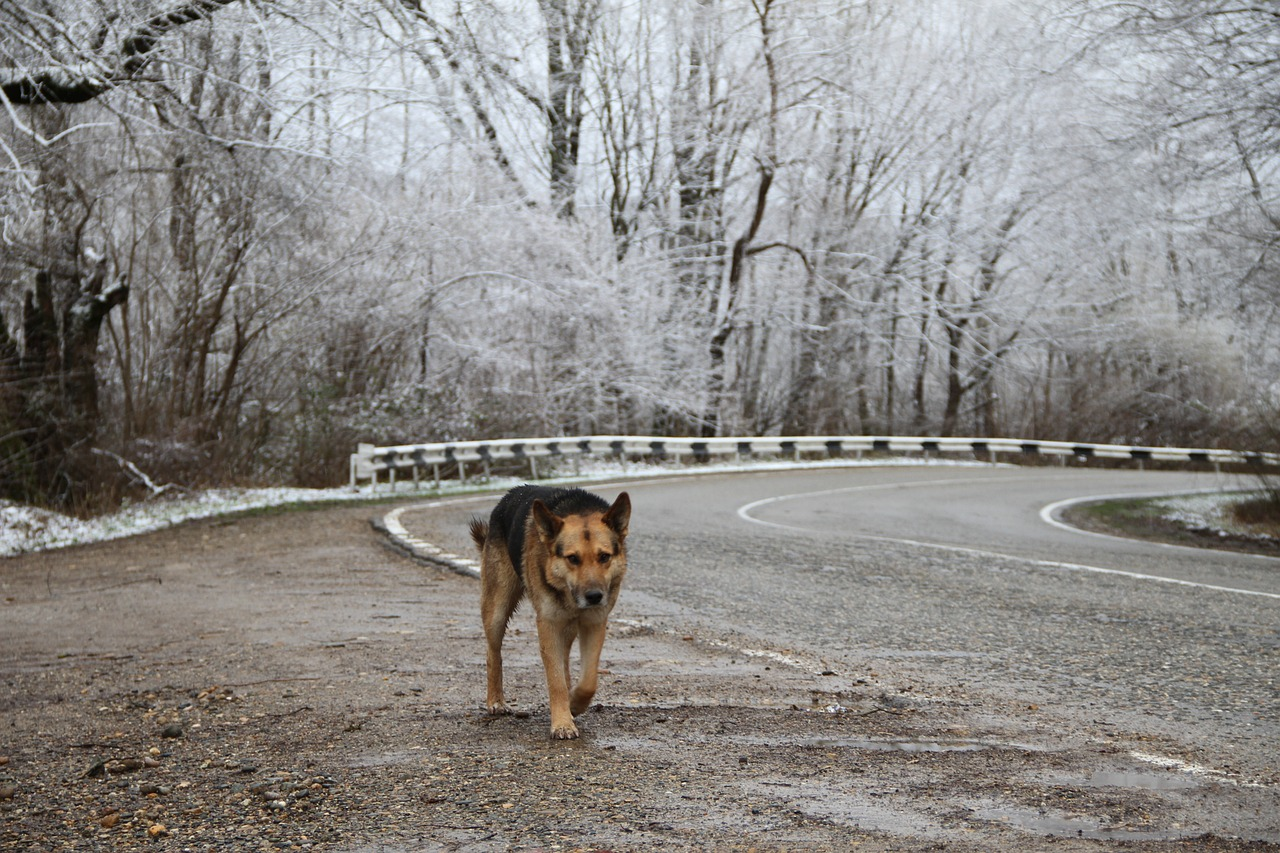kopek: (467, 477, 671, 763)
